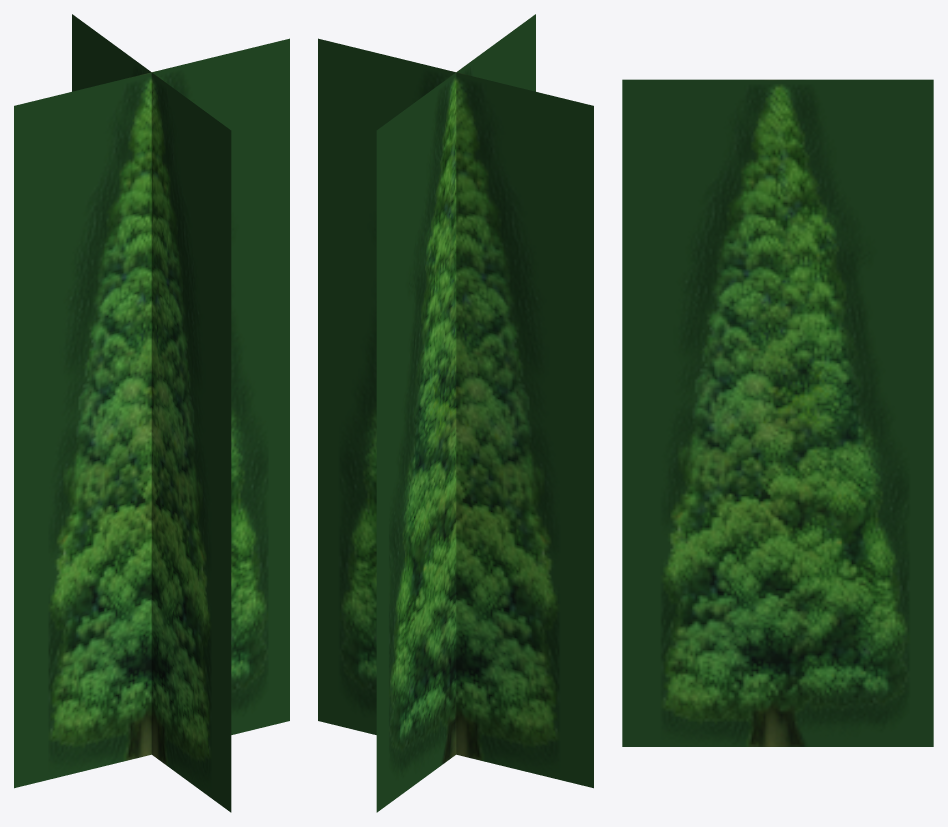
The model's file is n_e3gardentree05.glb.
3 renders of one model, left to right at view 1: azimuth 30°, elevation 25°; view 2: azimuth 150°, elevation 25°; view 3: azimuth 270°, elevation 25°, orthographic. The views are drawn at different scales.
Visible parts, largest first — view 1: n_e3gardentree05; view 2: n_e3gardentree05; view 3: n_e3gardentree05.
Part boxes in pixels (bbox=[...]): n_e3gardentree05: bbox=[14, 14, 289, 812]; n_e3gardentree05: bbox=[318, 14, 593, 812]; n_e3gardentree05: bbox=[622, 79, 933, 746].
Bounding box in the file's own units: 2.97 × 7.01 × 2.97.
Materials: 1 (1 with a texture image).
